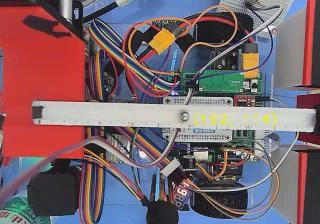ironball: (178, 111, 189, 121)
